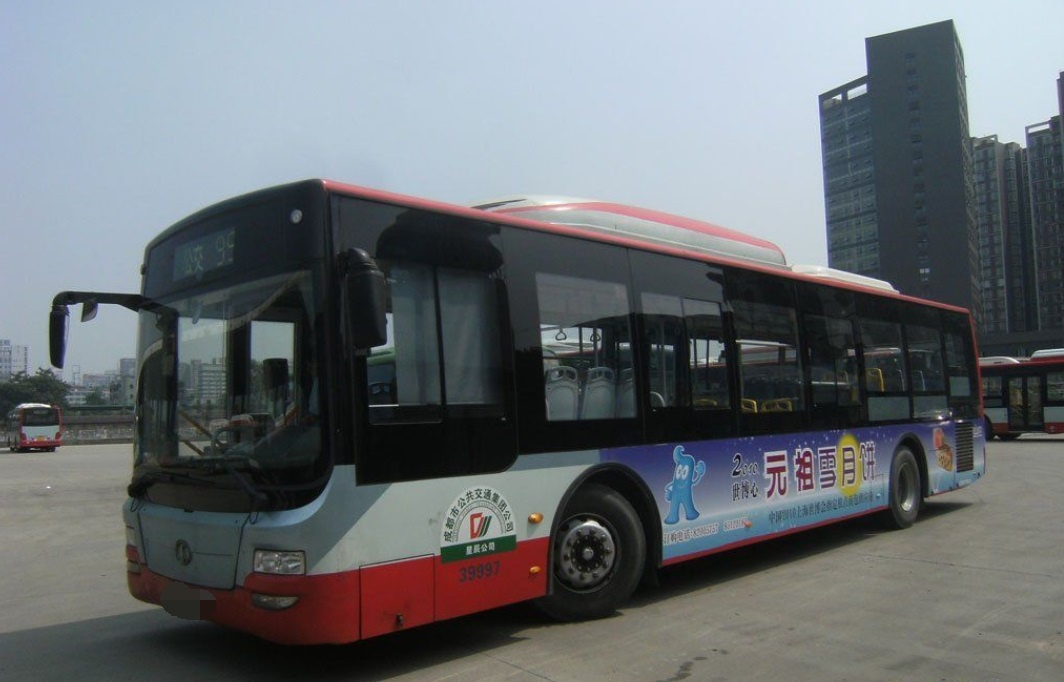bus: (54, 174, 997, 628)
